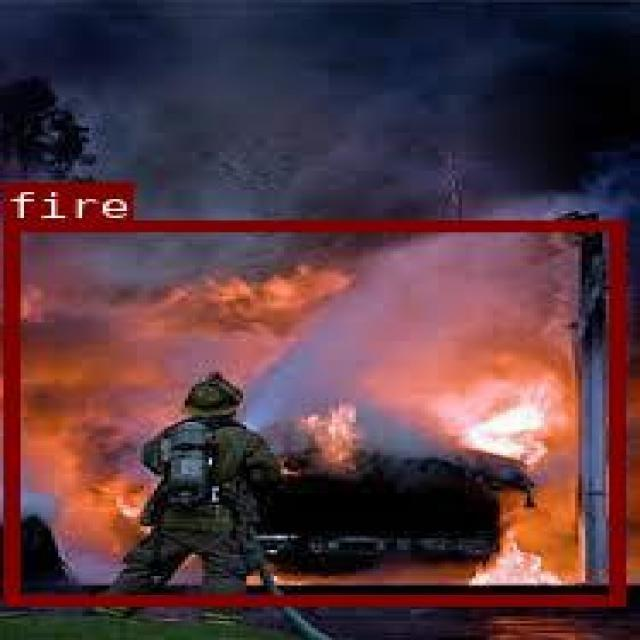fire: (1, 220, 620, 602)
